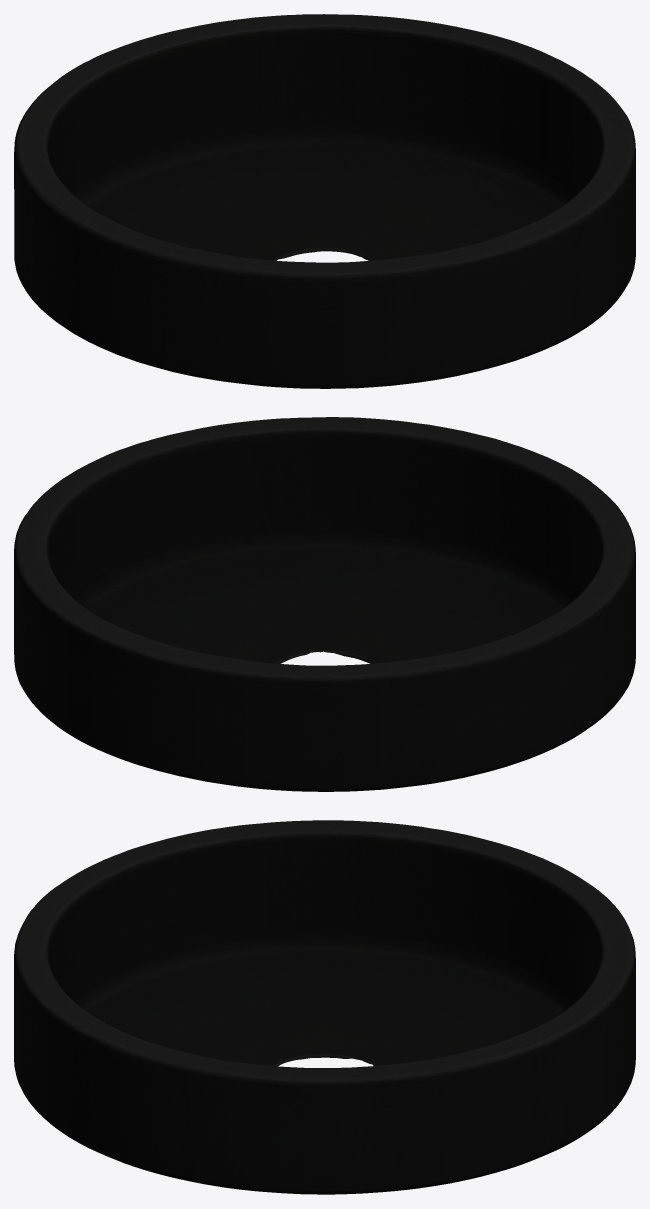
3 views of the same model, one above another, from view 1: azimuth 30°, elevation 25°; view 2: azimuth 150°, elevation 25°; view 3: azimuth 270°, elevation 25° (orthographic).
Parts seen in each view (by area): view 1: world; view 2: world; view 3: world.
Boxes of the visible parts, x1,y1,x2,y2 form: world: (14, 14, 635, 388); world: (14, 417, 635, 791); world: (14, 820, 635, 1194).
Bounding box in the file's own units: 1 × 0.2877 × 1.
Materials: 1 (1 with a texture image).
